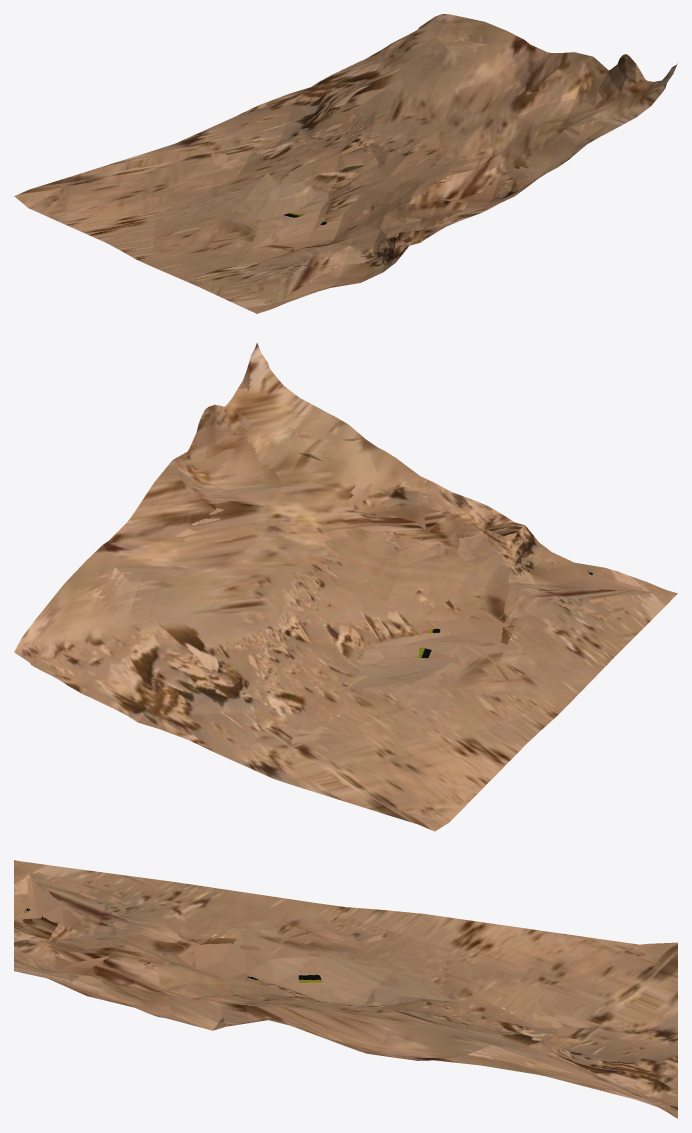
3 renders of one model, top to bottom at view 1: azimuth 30°, elevation 25°; view 2: azimuth 150°, elevation 25°; view 3: azimuth 270°, elevation 25°, orthographic. The views are drawn at different scales.
Bounding box in the file's own units: 1.04 × 0.4986 × 1.04.
Materials: 3 (3 with a texture image).
